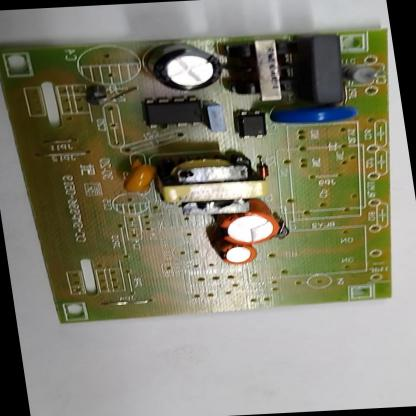Cap1: (220, 211, 280, 245)
Cap2: (218, 244, 256, 264)
Cap3: (150, 40, 224, 90)
MOSFET: (144, 97, 202, 128)
Mov: (271, 107, 360, 125)
Resistor: (345, 64, 379, 85)
Transformer: (224, 37, 298, 101)
